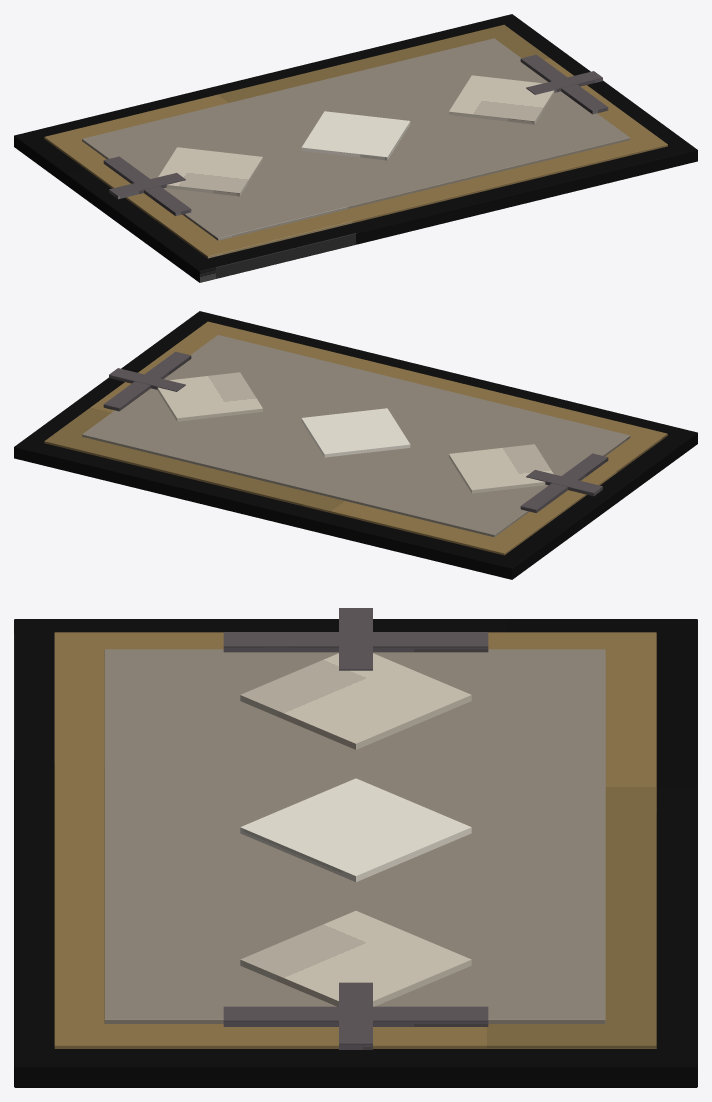
The model's file is gothic_bedroom_rug_ivory.glb.
3 renders of one model, top to bottom at view 1: azimuth 30°, elevation 25°; view 2: azimuth 150°, elevation 25°; view 3: azimuth 270°, elevation 25°, orthographic. The views are drawn at different scales.
Visible parts, largest first — view 1: RugField, RugBase, RugBorder, GothicDiamond0.0, GothicDiamond0.65, GothicDiamond-0.65, RugCrossV0.92, RugCrossV-0.92, RugCrossH-0.92, RugCrossH0.92; view 2: RugField, RugBase, RugBorder, GothicDiamond0.0, GothicDiamond0.65, GothicDiamond-0.65, RugCrossV0.92, RugCrossV-0.92, RugCrossH-0.92, RugCrossH0.92; view 3: RugField, RugBase, RugBorder, GothicDiamond0.0, GothicDiamond-0.65, GothicDiamond0.65, RugCrossV0.92, RugCrossV-0.92, RugCrossH0.92, RugCrossH-0.92.
Part boxes in pixels (x1=…): RugField: x1=82, y1=38, x2=630, y2=240; RugBase: x1=14, y1=14, x2=697, y2=282; RugBorder: x1=44, y1=24, x2=667, y2=258; GothicDiamond0.0: x1=301, y1=111, x2=410, y2=160; GothicDiamond0.65: x1=449, y1=75, x2=554, y2=124; GothicDiamond-0.65: x1=158, y1=147, x2=262, y2=196; RugCrossV0.92: x1=520, y1=54, x2=608, y2=114; RugCrossV-0.92: x1=103, y1=156, x2=191, y2=216; RugCrossH-0.92: x1=109, y1=173, x2=185, y2=199; RugCrossH0.92: x1=526, y1=71, x2=602, y2=94; RugField: x1=82, y1=335, x2=630, y2=537; RugBase: x1=14, y1=311, x2=697, y2=579; RugBorder: x1=44, y1=321, x2=667, y2=555; GothicDiamond0.0: x1=301, y1=408, x2=410, y2=457; GothicDiamond0.65: x1=157, y1=372, x2=262, y2=421; GothicDiamond-0.65: x1=449, y1=444, x2=553, y2=493; RugCrossV0.92: x1=103, y1=351, x2=191, y2=411; RugCrossV-0.92: x1=520, y1=453, x2=608, y2=513; RugCrossH-0.92: x1=526, y1=470, x2=602, y2=496; RugCrossH0.92: x1=109, y1=368, x2=185, y2=391; RugField: x1=104, y1=649, x2=605, y2=1023; RugBase: x1=14, y1=619, x2=697, y2=1087; RugBorder: x1=54, y1=632, x2=656, y2=1048; GothicDiamond0.0: x1=240, y1=778, x2=471, y2=881; GothicDiamond-0.65: x1=240, y1=653, x2=471, y2=749; GothicDiamond0.65: x1=240, y1=911, x2=471, y2=1006; RugCrossV0.92: x1=223, y1=1006, x2=488, y2=1026; RugCrossV-0.92: x1=223, y1=632, x2=488, y2=652; RugCrossH0.92: x1=339, y1=982, x2=372, y2=1049; RugCrossH-0.92: x1=339, y1=608, x2=372, y2=670.
Size of the model in its own units: 2.2 by 0.088 by 1.42.
1 material, 1 textured.
